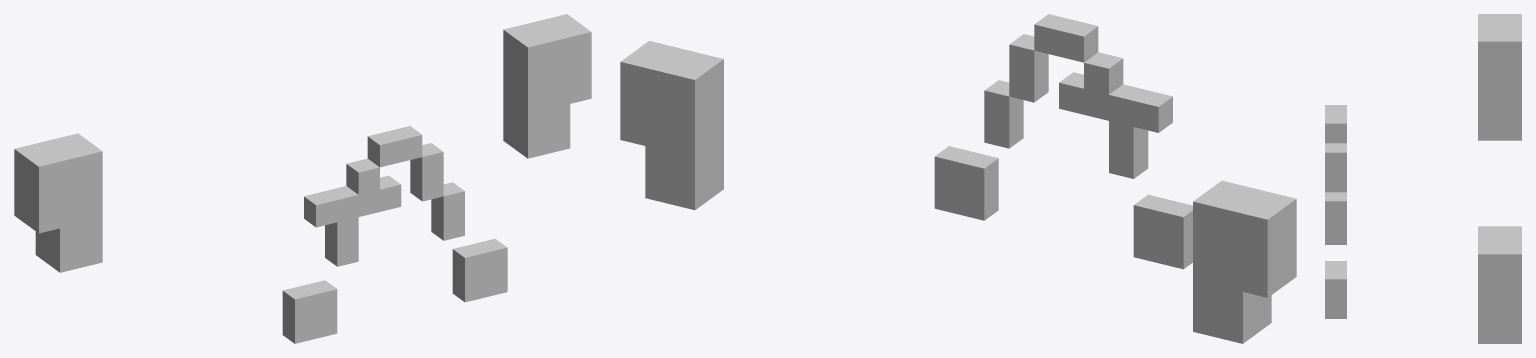
3 renders of one model, left to right at view 1: azimuth 30°, elevation 25°; view 2: azimuth 150°, elevation 25°; view 3: azimuth 270°, elevation 25°, orthographic. The views are drawn at different scales.
Visible parts, largest first — view 1: 21.1; view 2: 21.1; view 3: 21.1.
Part boxes in pixels (<box>): 21.1: <box>14,14,591,343</box>; 21.1: <box>620,14,1296,343</box>; 21.1: <box>1325,14,1521,343</box>.
Bounding box in the file's own units: 260 × 80 × 90.
Materials: 1 (1 with a texture image).
